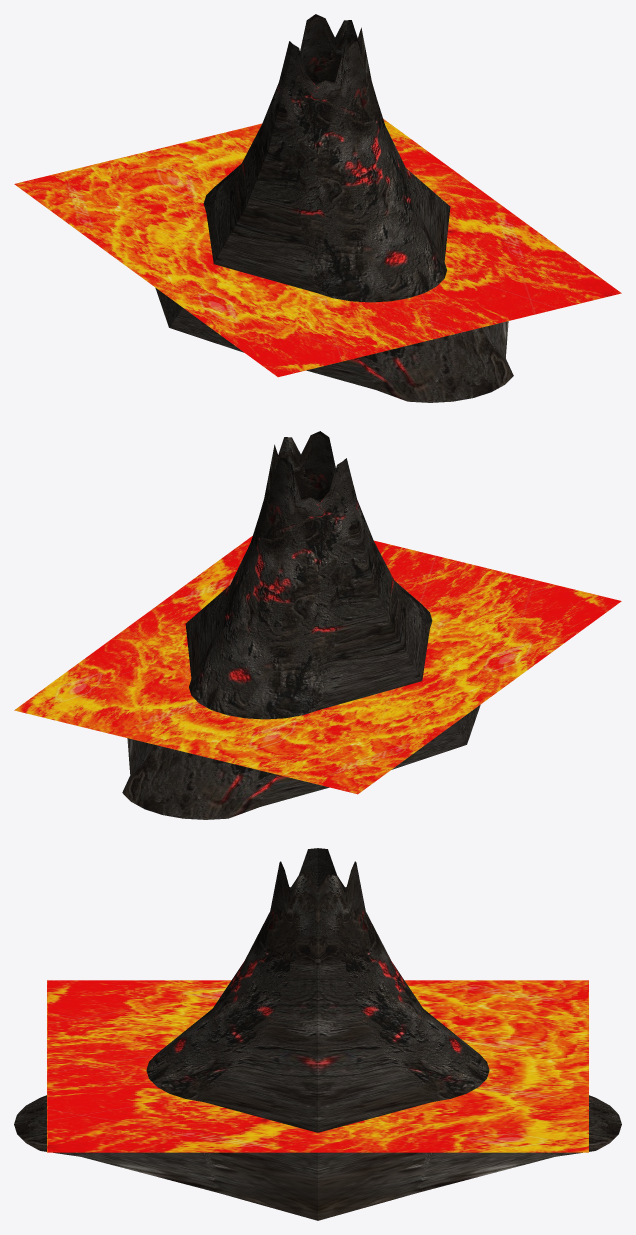
Rendered from Volcano.FBX.
The picture shows the model from 3 angles, top to bottom: view 1: azimuth 30°, elevation 25°; view 2: azimuth 150°, elevation 25°; view 3: azimuth 270°, elevation 25°; orthographic projection. The views are drawn at different scales.
Visible parts, largest first — view 1: Cone001, Plane001; view 2: Cone001, Plane001; view 3: Cone001, Plane001.
Boxes of the visible parts, x1,y1,x2,y2 form: Cone001: (155, 14, 513, 402); Plane001: (14, 119, 621, 377); Cone001: (122, 431, 480, 819); Plane001: (14, 536, 621, 794); Cone001: (14, 848, 621, 1220); Plane001: (47, 980, 588, 1152).
Bounding box in the file's own units: 173 × 116 × 239.
